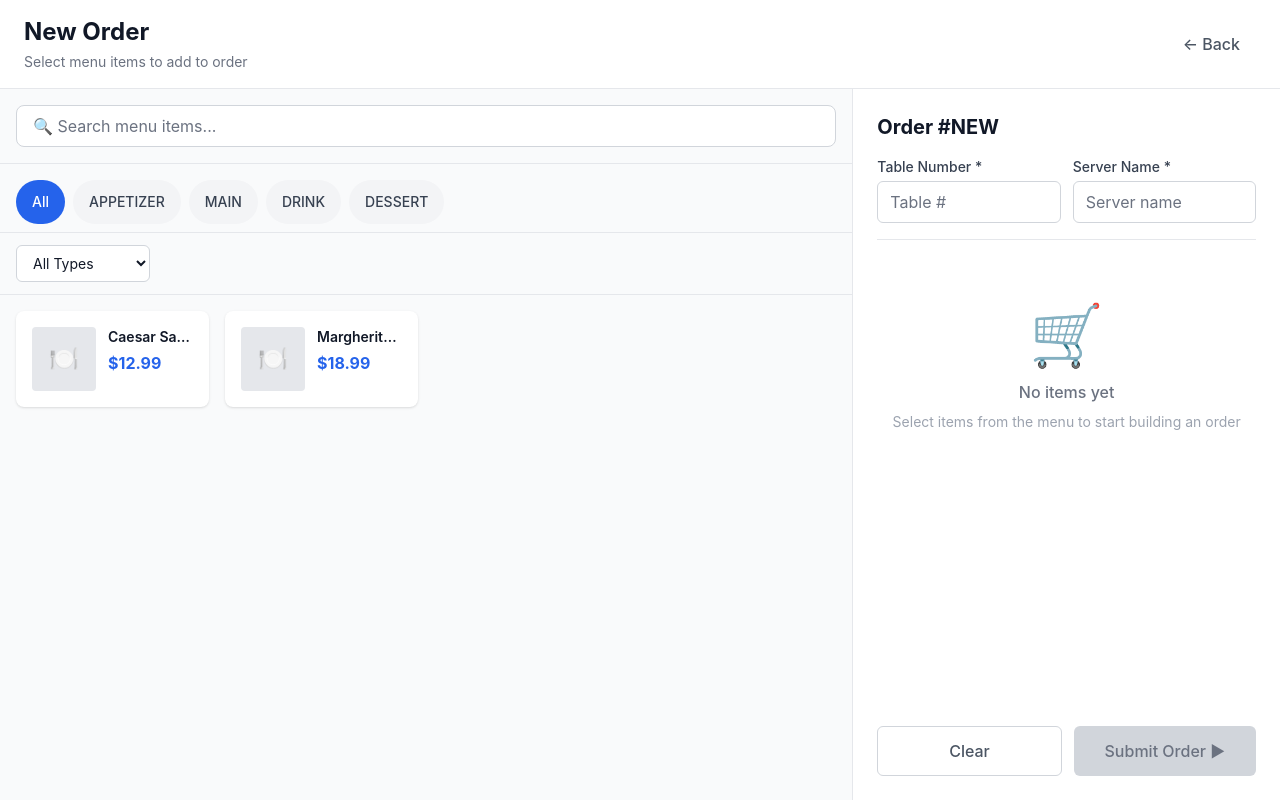
NewOrderPage › displays item count correctly
The width and height of the screenshot is (1280, 800).
Note: Add first item
Click the button "🍽️ Caesar Salad $12.99". click: (113, 359)
box: [16,311,209,407]
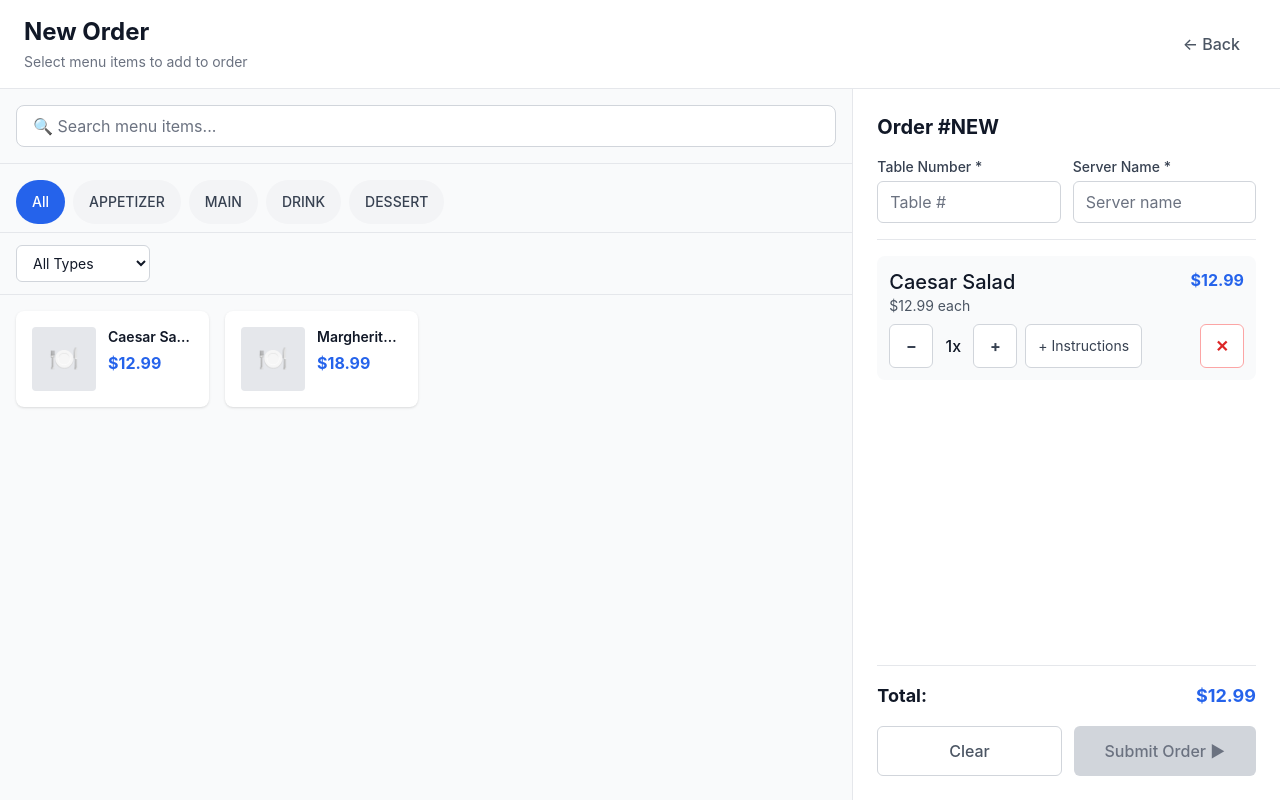
Expected: the text "1x" is shown, [946,336,961,356]
Note: Add second different item
Click the button "🍽️ Margherita Pizza $18.99". click: (322, 359)
box: [225,311,418,407]
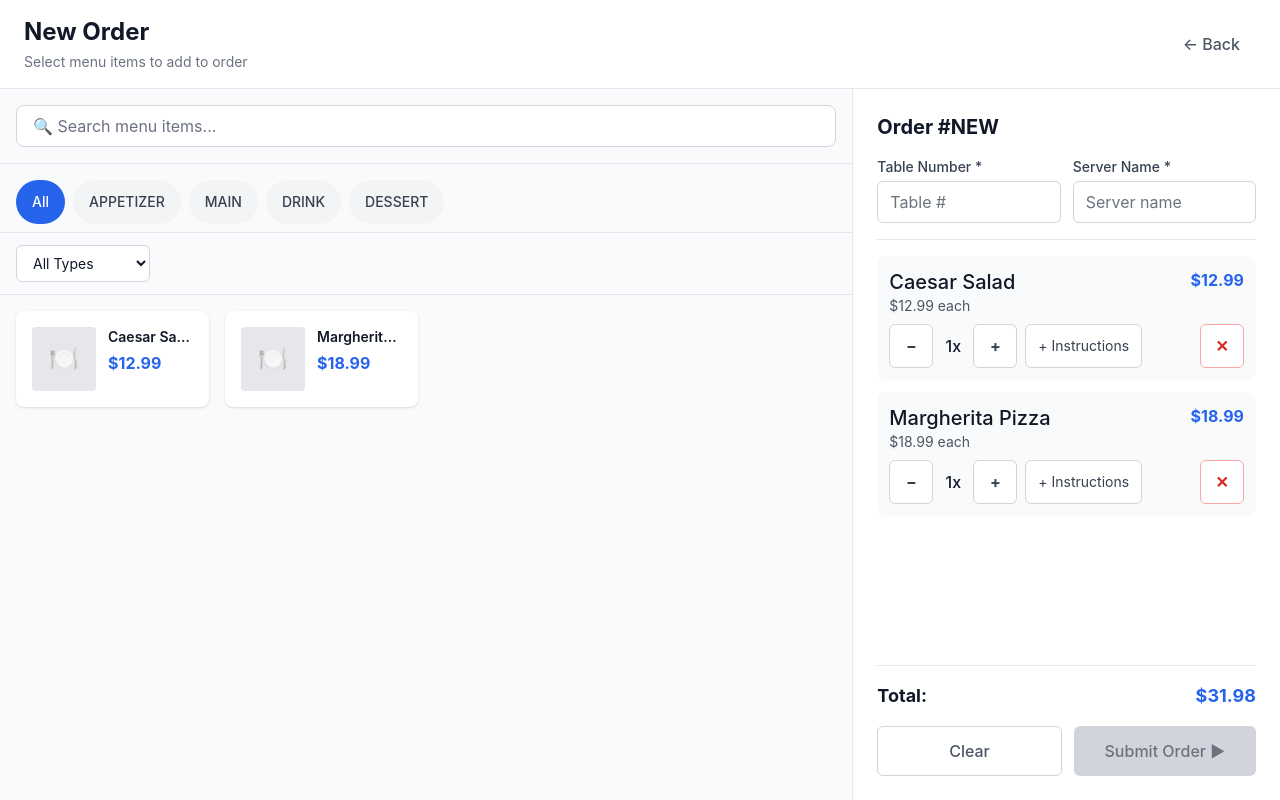
Expected: the text "1x" is shown 2 times, [946,336,961,356]; [946,472,961,492]
